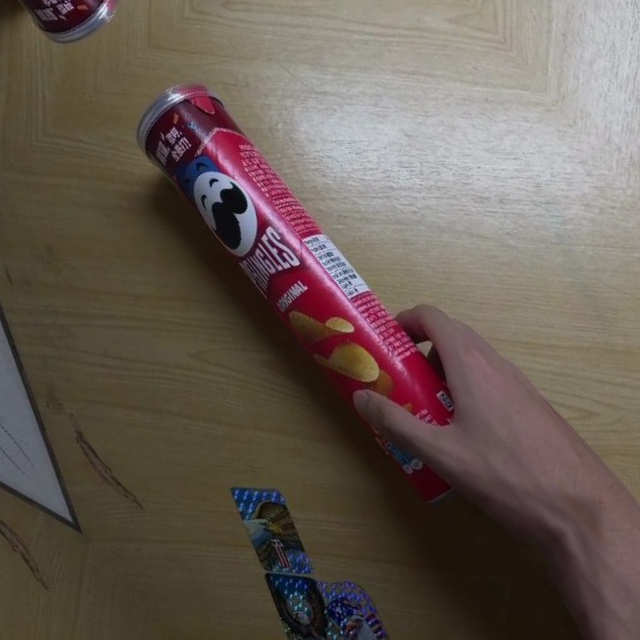Pringles: (116, 70, 514, 516)
